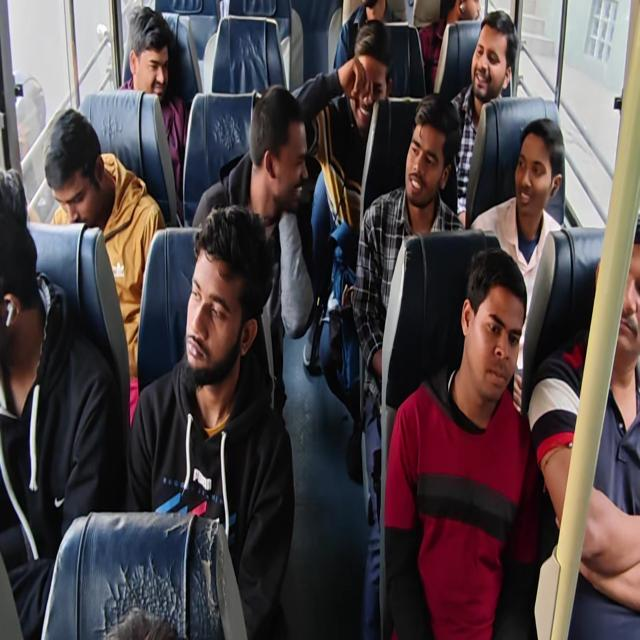person: (1, 1, 638, 638), (126, 203, 296, 638), (381, 246, 542, 638), (351, 92, 465, 638), (0, 167, 123, 638), (527, 218, 639, 638), (190, 84, 314, 417), (42, 108, 166, 426), (469, 117, 565, 414), (311, 19, 393, 237), (116, 5, 188, 222), (448, 10, 518, 225), (418, 0, 480, 92), (333, 0, 407, 71), (103, 606, 180, 639)
